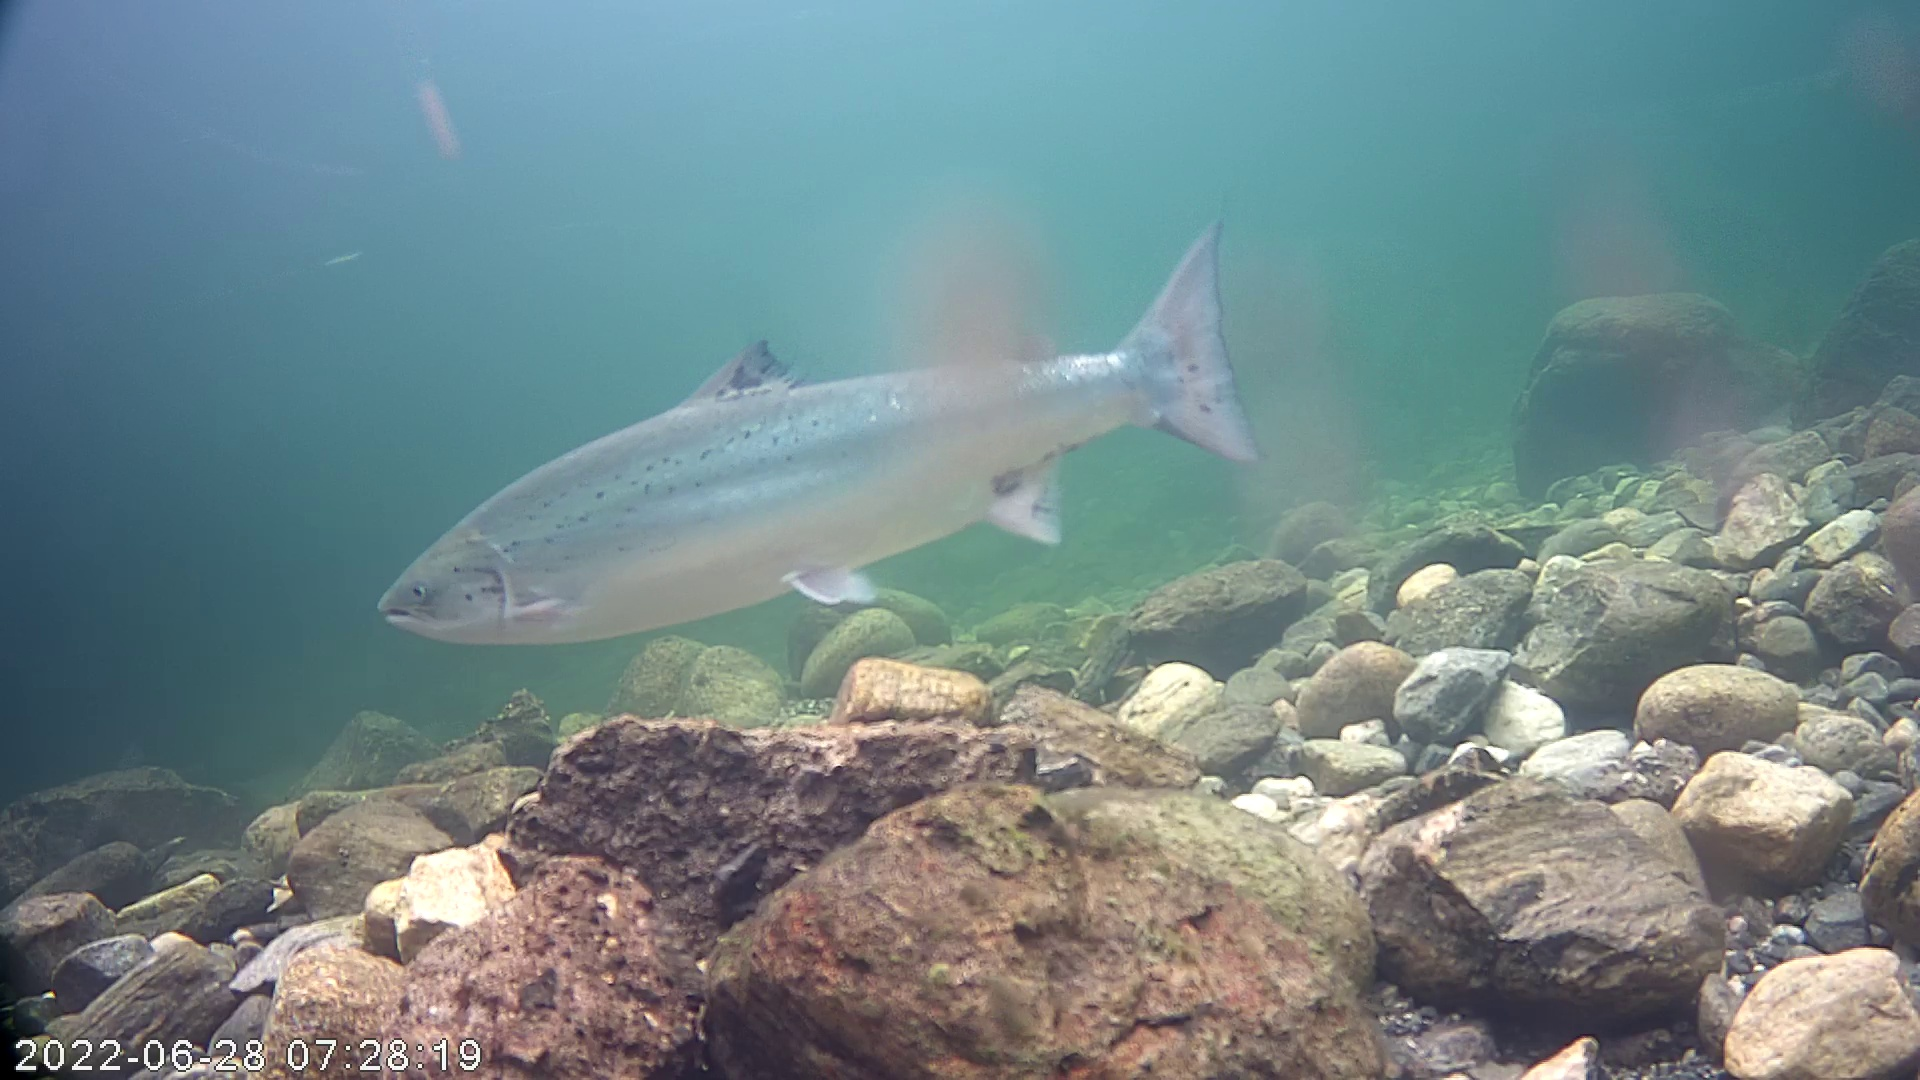salmon: (372, 169, 1276, 678)
